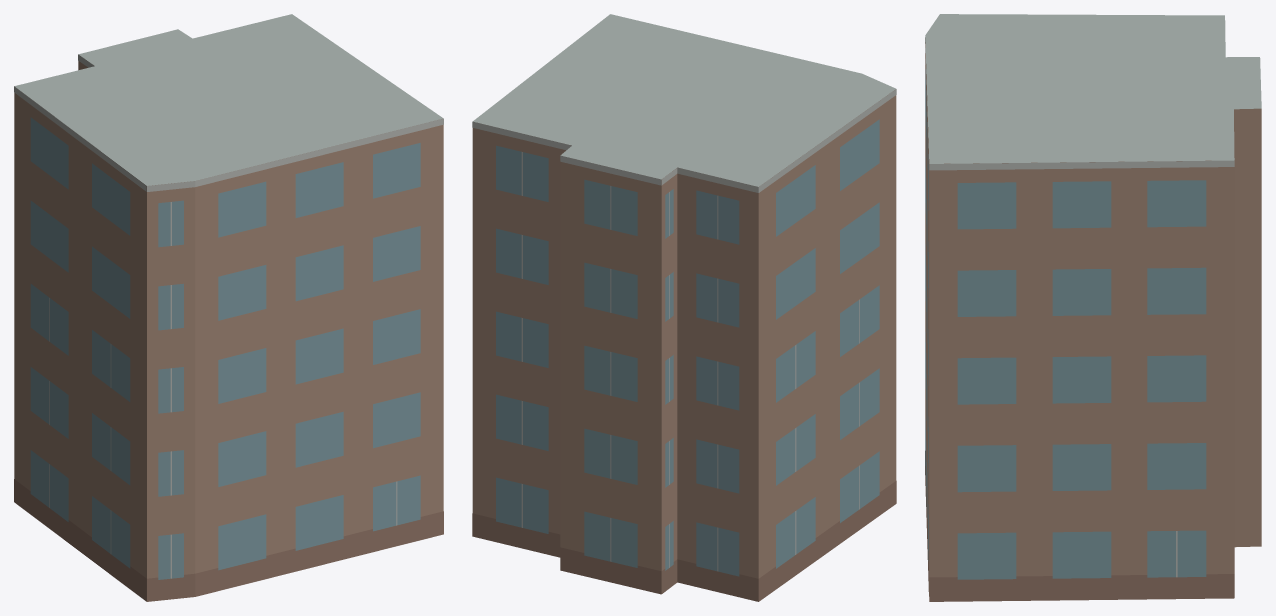
File: survey-upis-32977695.glb
3 renders of one model, left to right at view 1: azimuth 30°, elevation 25°; view 2: azimuth 150°, elevation 25°; view 3: azimuth 270°, elevation 25°, orthographic. The views are drawn at different scales.
Parts seen in each view (by area): view 1: survey-upis-32977695.tmp; view 2: survey-upis-32977695.tmp; view 3: survey-upis-32977695.tmp.
Boxes of the visible parts, box(x1,y1,x2,y2) form: survey-upis-32977695.tmp: box(14, 14, 443, 601); survey-upis-32977695.tmp: box(472, 14, 896, 601); survey-upis-32977695.tmp: box(925, 14, 1261, 601).
Bounding box in the file's own units: 12.05 × 16.4 × 11.43.
